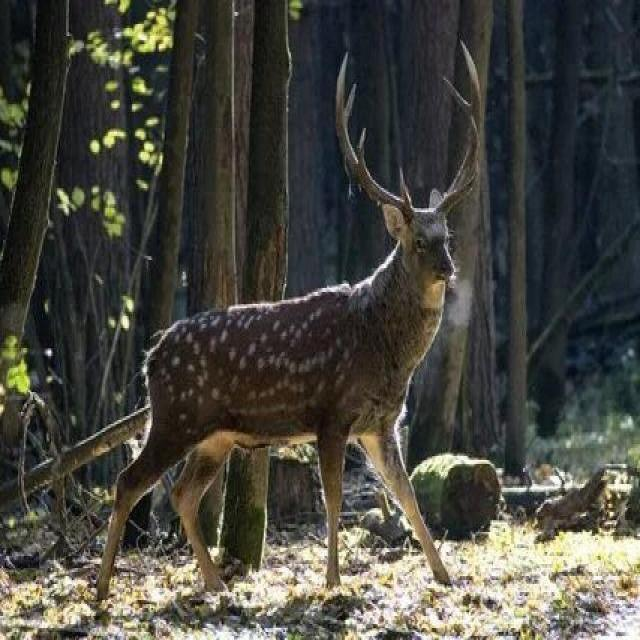deer: (99, 125, 584, 640)
